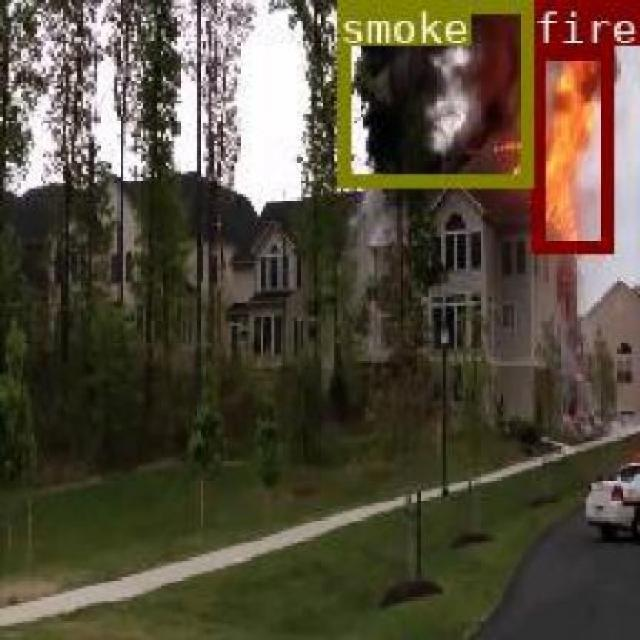Fire: (529, 42, 609, 250)
Smoke: (336, 0, 530, 186)
